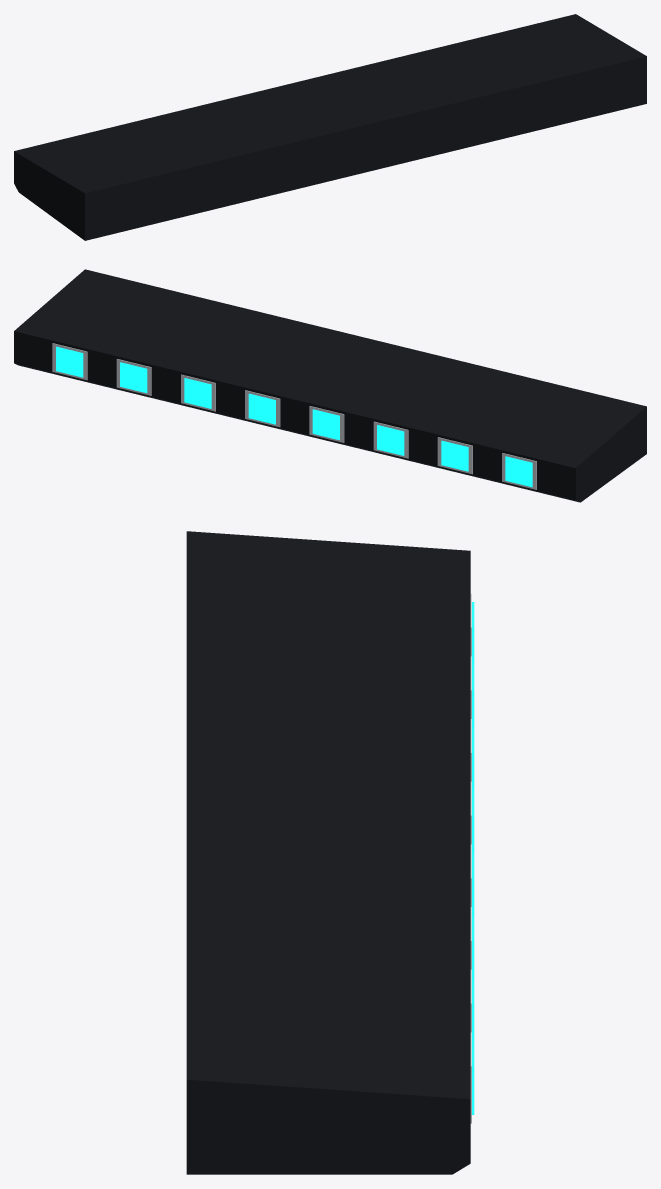
File: visor_lamp_row.glb
The picture shows the model from 3 angles, top to bottom: view 1: azimuth 30°, elevation 25°; view 2: azimuth 150°, elevation 25°; view 3: azimuth 270°, elevation 25°; orthographic projection. The views are drawn at different scales.
Visible parts, largest first — view 1: visor_lamp_row_deco_body; view 2: visor_lamp_row_deco_body, visor_lamp_row_deco_neon, visor_lamp_row_chrome; view 3: visor_lamp_row_deco_body, visor_lamp_row_deco_neon, visor_lamp_row_chrome.
Boxes of the visible parts, x1,y1,x2,y2 form: visor_lamp_row_deco_body: [14, 14, 646, 240]; visor_lamp_row_deco_body: [14, 269, 646, 502]; visor_lamp_row_deco_neon: [56, 346, 532, 487]; visor_lamp_row_chrome: [52, 343, 536, 489]; visor_lamp_row_deco_body: [186, 531, 470, 1174]; visor_lamp_row_deco_neon: [472, 602, 474, 1114]; visor_lamp_row_chrome: [470, 593, 471, 1123].
Bounding box in the file's own units: 2.1 × 0.17 × 0.466.
